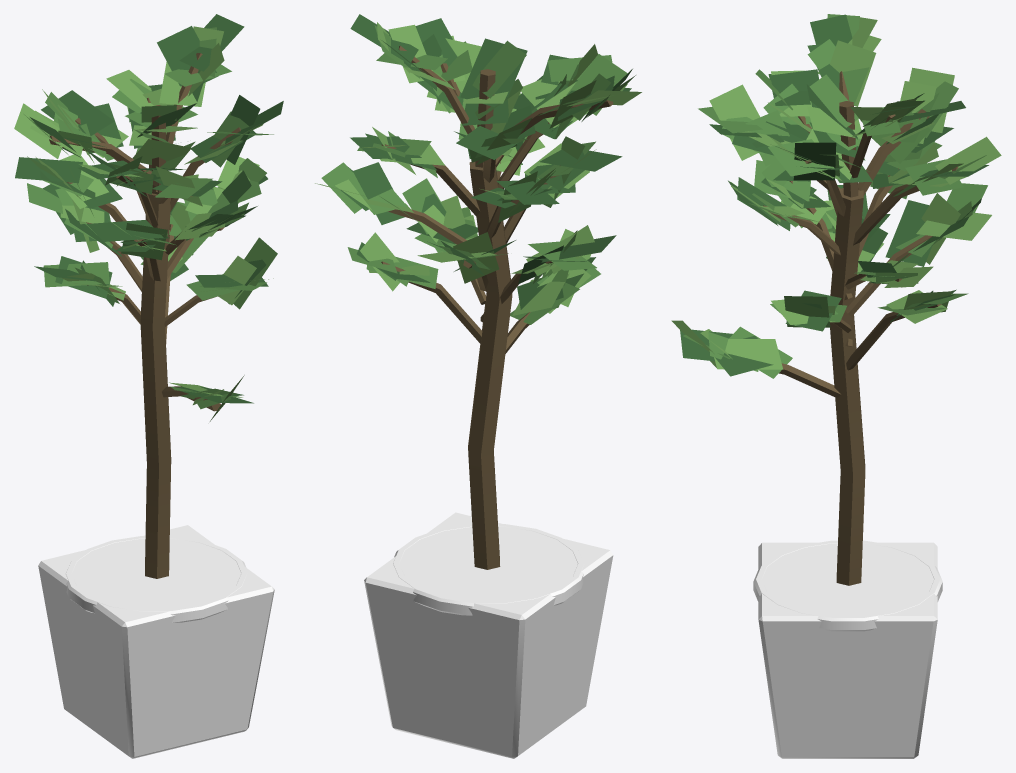
Rendered from plant-ficus-large.glb.
3 renders of one model, left to right at view 1: azimuth 30°, elevation 25°; view 2: azimuth 150°, elevation 25°; view 3: azimuth 270°, elevation 25°, orthographic. The views are drawn at different scales.
Visible parts, largest first — view 1: plant-ficus-large.tint, plant-ficus-large.foliage3, plant-ficus-large.stem, plant-ficus-large.foliage, plant-ficus-large.foliage2; view 2: plant-ficus-large.tint, plant-ficus-large.stem, plant-ficus-large.foliage3, plant-ficus-large.foliage, plant-ficus-large.foliage2; view 3: plant-ficus-large.tint, plant-ficus-large.foliage2, plant-ficus-large.stem, plant-ficus-large.foliage, plant-ficus-large.foliage3.
Boxes of the visible parts, x1=… form: plant-ficus-large.tint: x1=38, y1=525, x2=274, y2=758; plant-ficus-large.foliage3: x1=15, y1=14, x2=283, y2=403; plant-ficus-large.stem: x1=49, y1=53, x2=240, y2=578; plant-ficus-large.foliage: x1=24, y1=27, x2=277, y2=409; plant-ficus-large.foliage2: x1=14, y1=26, x2=273, y2=421; plant-ficus-large.tint: x1=364, y1=512, x2=613, y2=758; plant-ficus-large.stem: x1=381, y1=45, x2=613, y2=569; plant-ficus-large.foliage3: x1=340, y1=14, x2=632, y2=309; plant-ficus-large.foliage: x1=321, y1=25, x2=635, y2=324; plant-ficus-large.foliage2: x1=315, y1=22, x2=641, y2=315; plant-ficus-large.tint: x1=753, y1=540, x2=942, y2=758; plant-ficus-large.foliage2: x1=671, y1=15, x2=1001, y2=369; plant-ficus-large.stem: x1=763, y1=71, x2=957, y2=585; plant-ficus-large.foliage: x1=683, y1=14, x2=987, y2=378; plant-ficus-large.foliage3: x1=680, y1=14, x2=988, y2=376.
Size of the model in its own units: 0.8 by 1.8 by 0.8.
